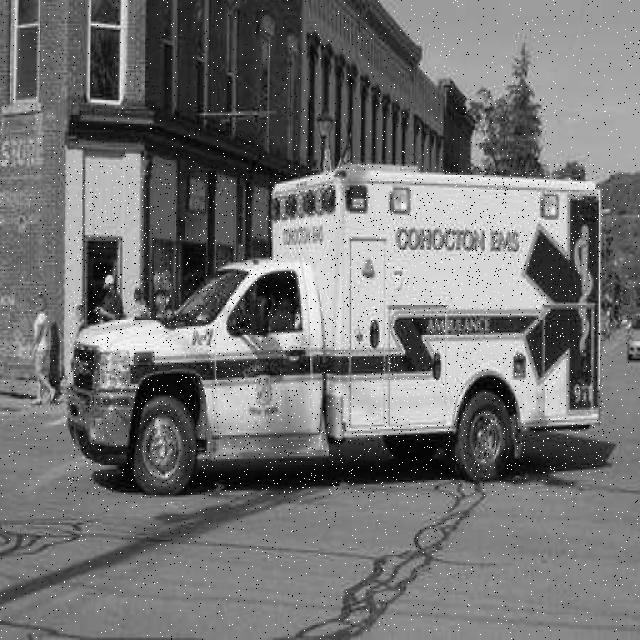Ambulance: (67, 164, 604, 497)
